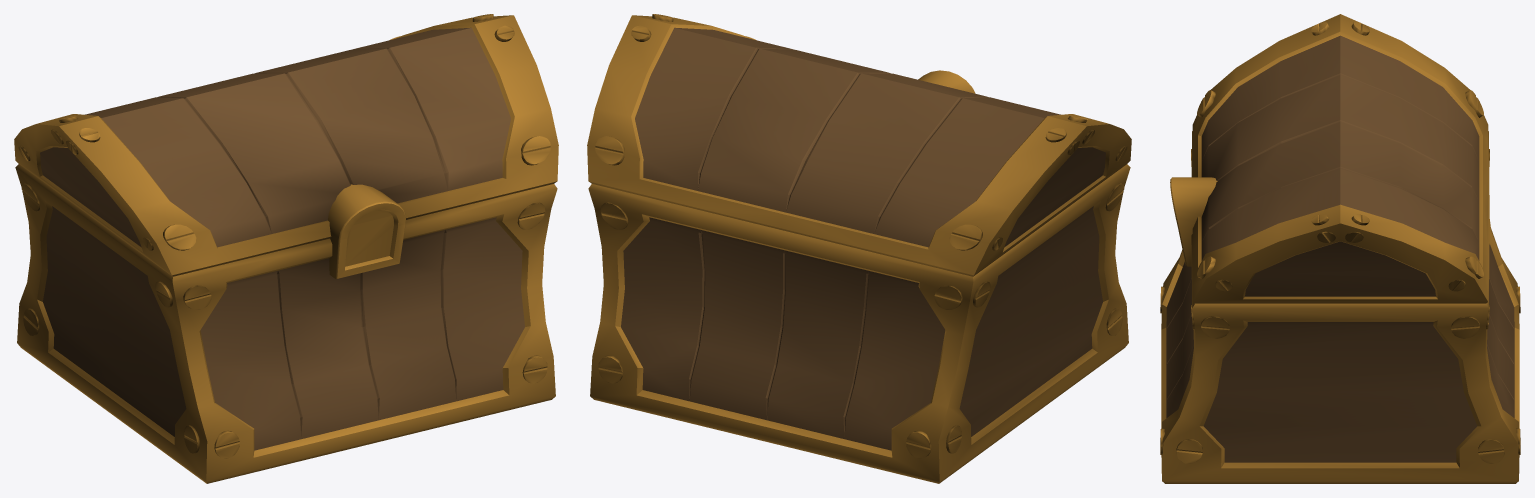
File: obj_chest_close.FBX
The picture shows the model from 3 angles, left to right: view 1: azimuth 30°, elevation 25°; view 2: azimuth 150°, elevation 25°; view 3: azimuth 270°, elevation 25°; orthographic projection. The views are drawn at different scales.
Visible parts, largest first — view 1: obj_chest_close; view 2: obj_chest_close; view 3: obj_chest_close.
Boxes of the visible parts, x1,y1,x2,y2 form: obj_chest_close: [14, 14, 558, 483]; obj_chest_close: [587, 14, 1131, 483]; obj_chest_close: [1160, 14, 1520, 483].
Size of the model in its own units: 2.35 by 1.5 by 1.71.
